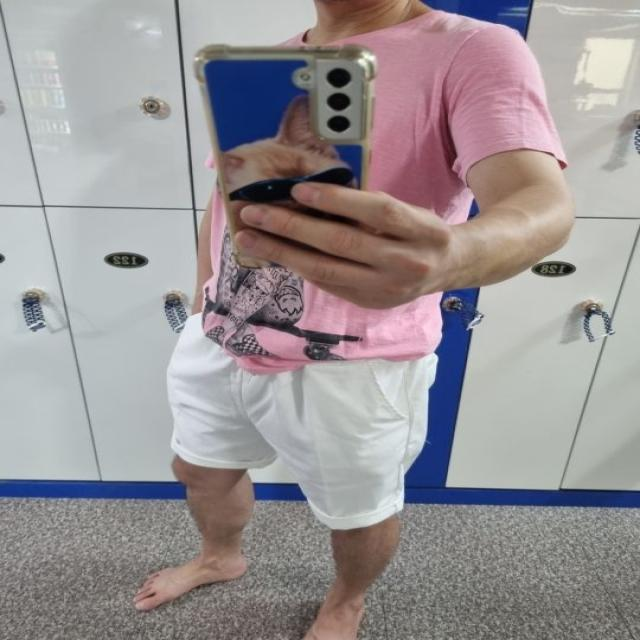shortpants: (160, 310, 438, 532)
shortsleeve: (196, 10, 569, 377)
